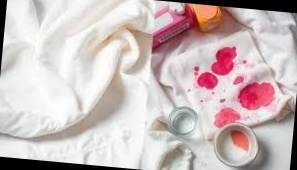lipstick: (207, 43, 249, 85), (228, 76, 272, 113), (207, 102, 246, 134), (189, 63, 225, 96)
